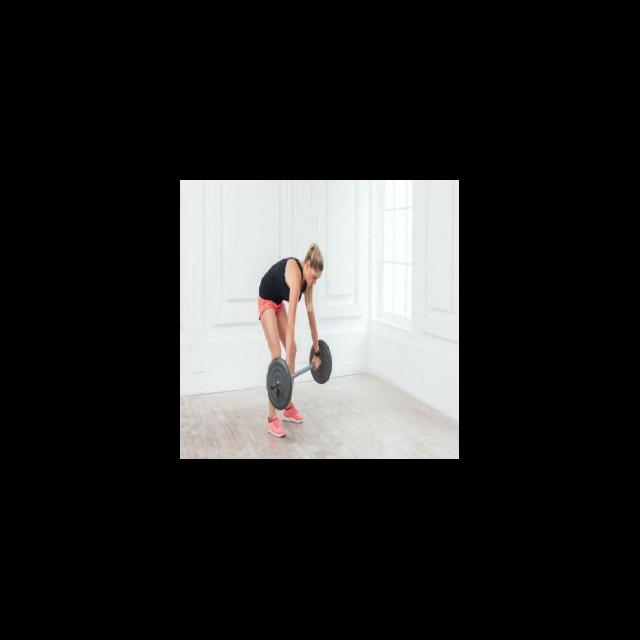barbell: (265, 357, 293, 410)
